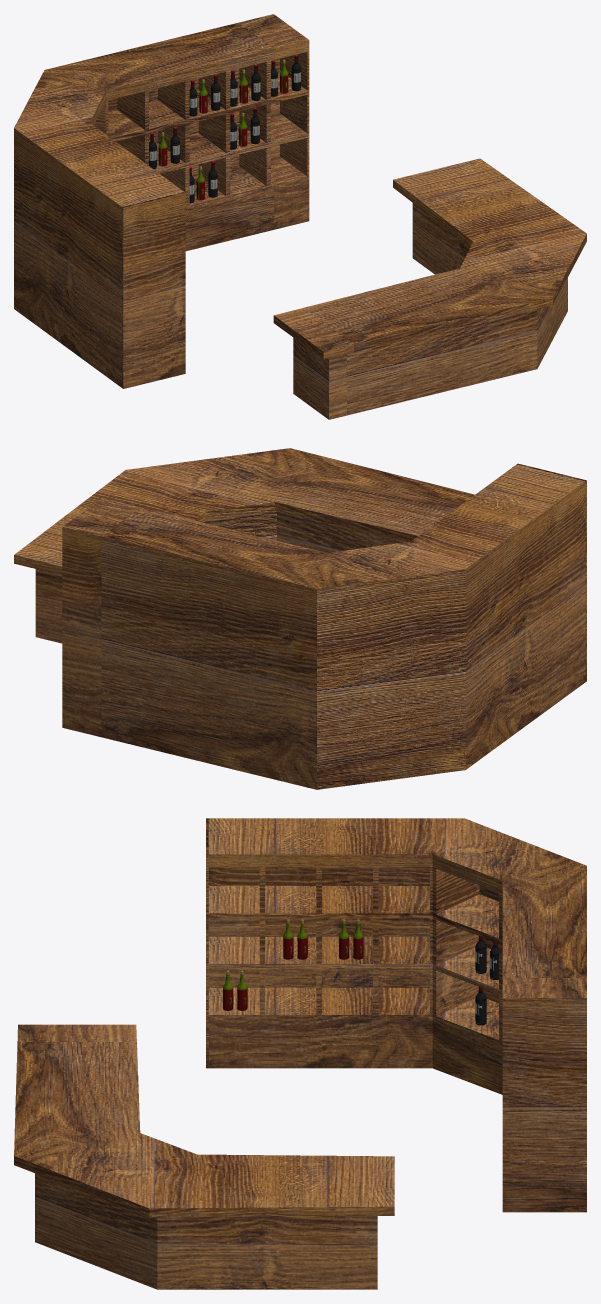
Rendered from BarCounter.glb.
3 views of the same model, one above another, from view 1: azimuth 30°, elevation 25°; view 2: azimuth 150°, elevation 25°; view 3: azimuth 270°, elevation 25° (orthographic). The views are drawn at different scales.
Visible parts, largest first — view 1: Regal, Theke; view 2: Regal, Theke; view 3: Regal, Theke.
Boxes of the visible parts, <box> form: Regal: <box>14,14,309,388</box>; Theke: <box>273,158,586,419</box>; Regal: <box>62,463,586,789</box>; Theke: <box>14,448,474,643</box>; Regal: <box>206,818,586,1212</box>; Theke: <box>14,1024,394,1289</box>.
Size of the model in its own units: 8.82 by 3.67 by 8.41.
5 materials, 3 textured.
